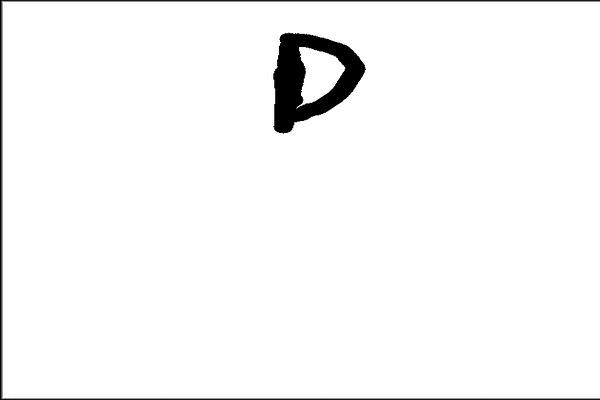D: (264, 24, 369, 138)
